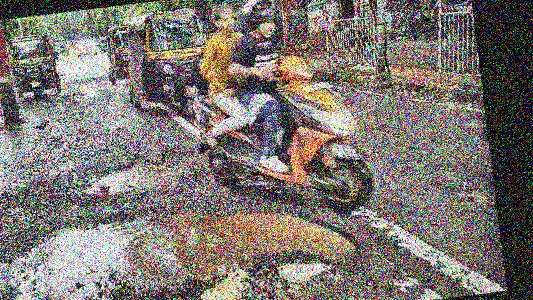pothole: (0, 187, 367, 300), (79, 149, 187, 201)
